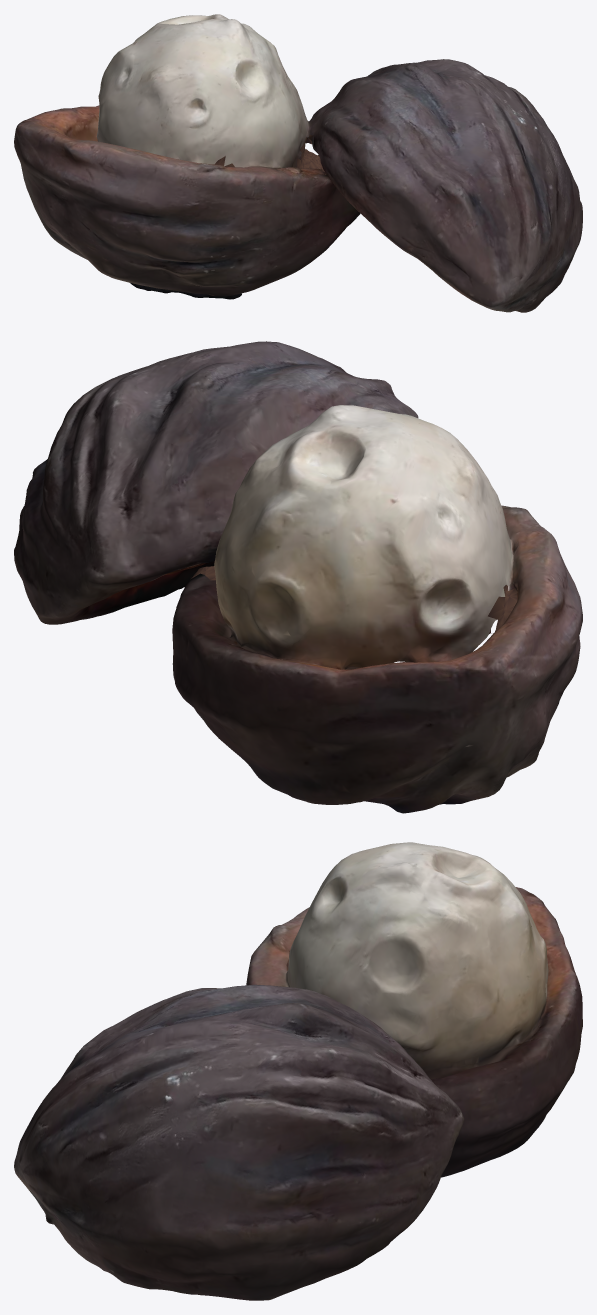
3 renders of one model, top to bottom at view 1: azimuth 30°, elevation 25°; view 2: azimuth 150°, elevation 25°; view 3: azimuth 270°, elevation 25°, orthographic. The views are drawn at different scales.
Visible parts, largest first — view 1: Mesh_0.001; view 2: Mesh_0.001; view 3: Mesh_0.001.
Part boxes in pixels (x1,y1,x2,y2): Mesh_0.001: [14, 14, 582, 312]; Mesh_0.001: [14, 341, 582, 813]; Mesh_0.001: [14, 842, 582, 1300].
Bounding box in the file's own units: 1.72 × 0.9235 × 1.57.
Materials: 5 (4 with a texture image).
